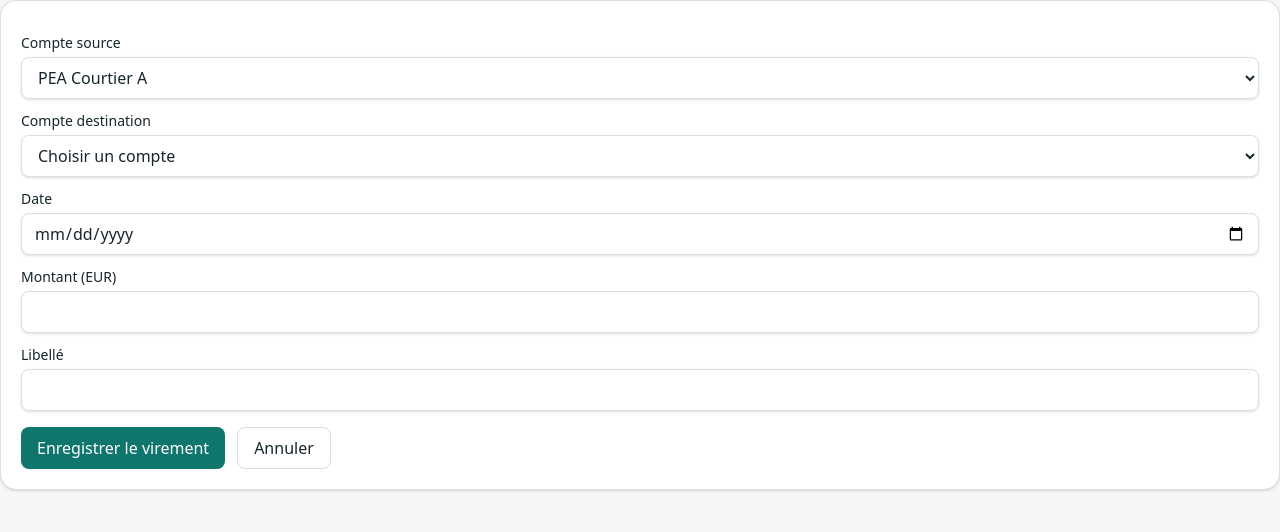
Test: TransferForm › refuse deux comptes identiques
Step 1. Select "PEA Courtier A" in the dropdown labelled "Compte destination" → {"x": 640, "y": 156}, box top-left (21, 135), bottom-right (1259, 177)
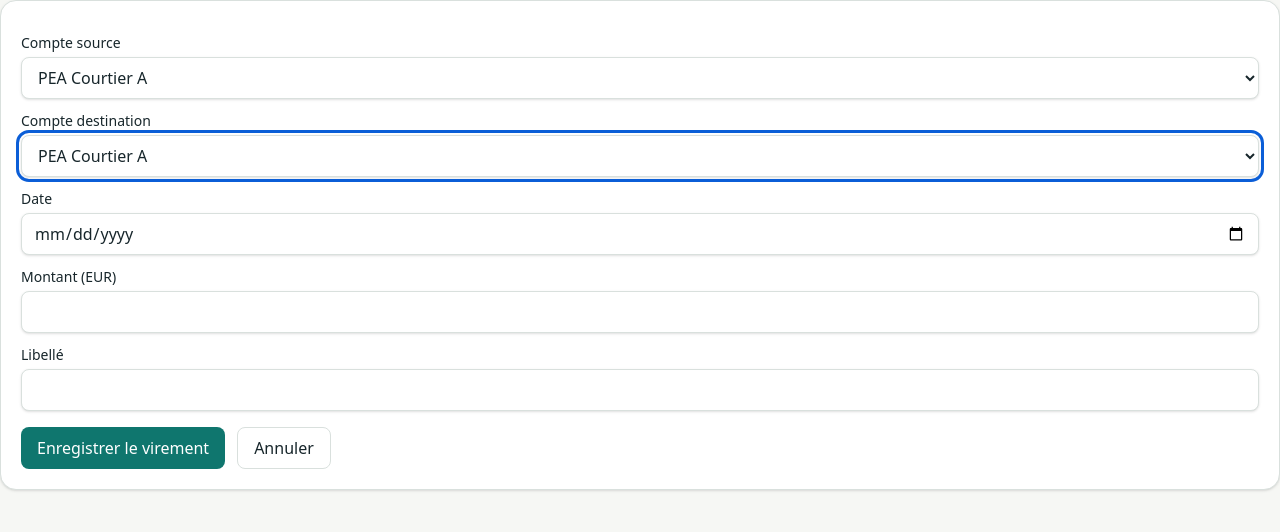
Step 2. Type "2026-03-01" into the date field labelled "Date" → {"x": 640, "y": 234}, box top-left (21, 213), bottom-right (1259, 255)
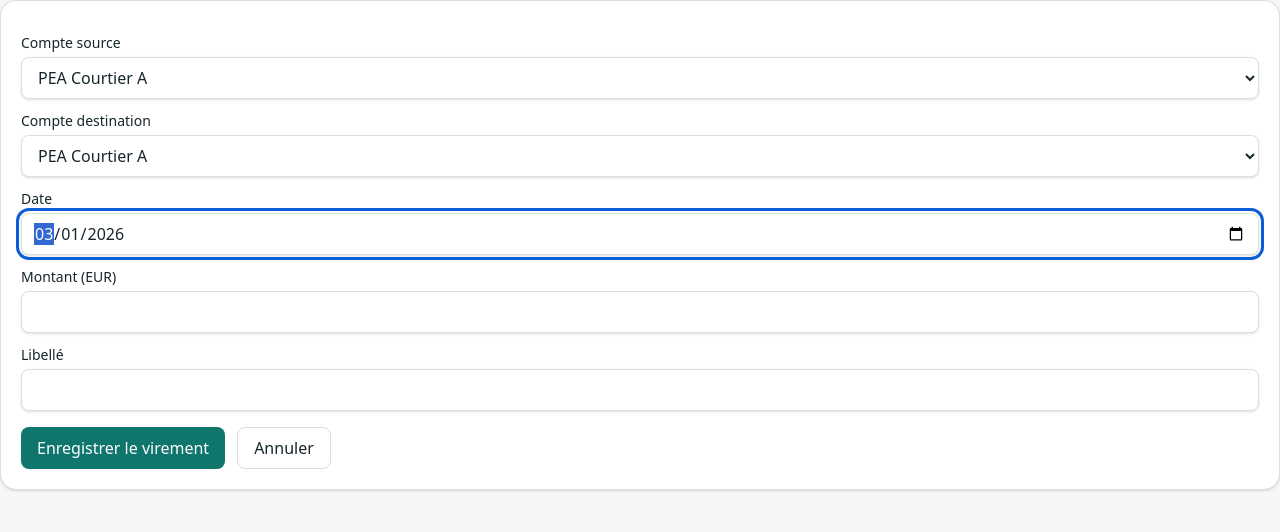
Step 3. Type "10" into the field labelled "Montant (EUR)" → {"x": 640, "y": 312}, box top-left (21, 291), bottom-right (1259, 333)
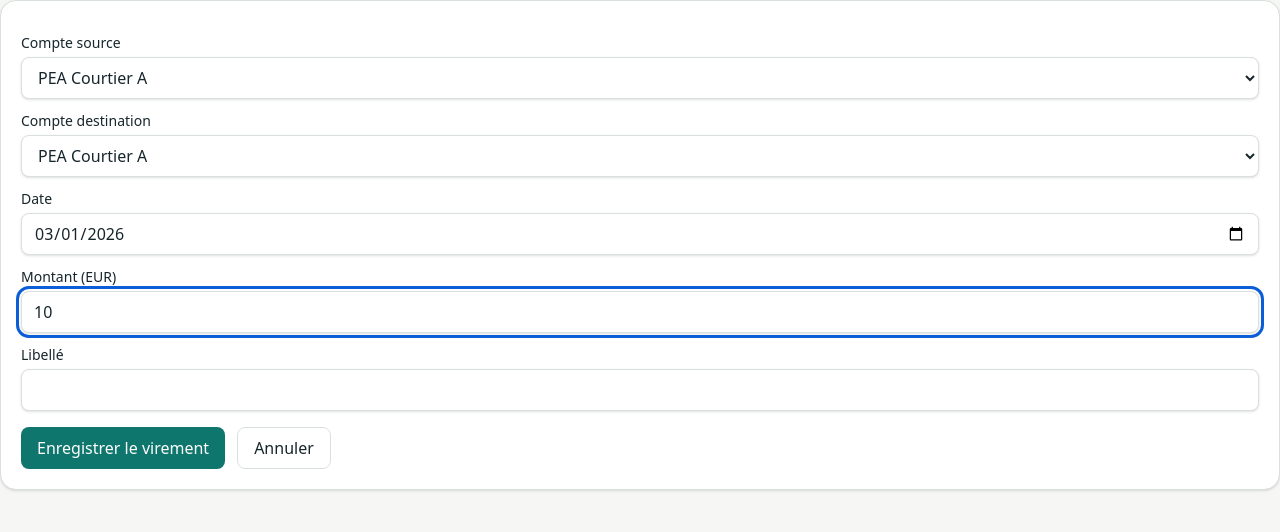
Step 4. Click the button "Enregistrer le virement" → {"x": 123, "y": 448}, box top-left (21, 427), bottom-right (225, 469)
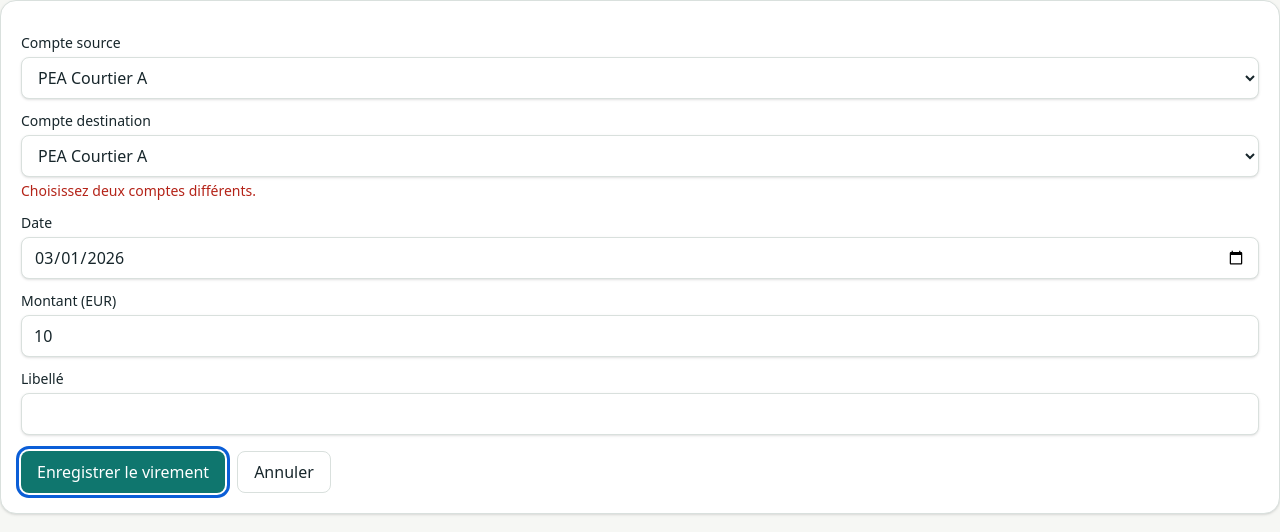
Now the text "Choisissez deux comptes différents." is shown, box top-left (21, 181), bottom-right (256, 200)
